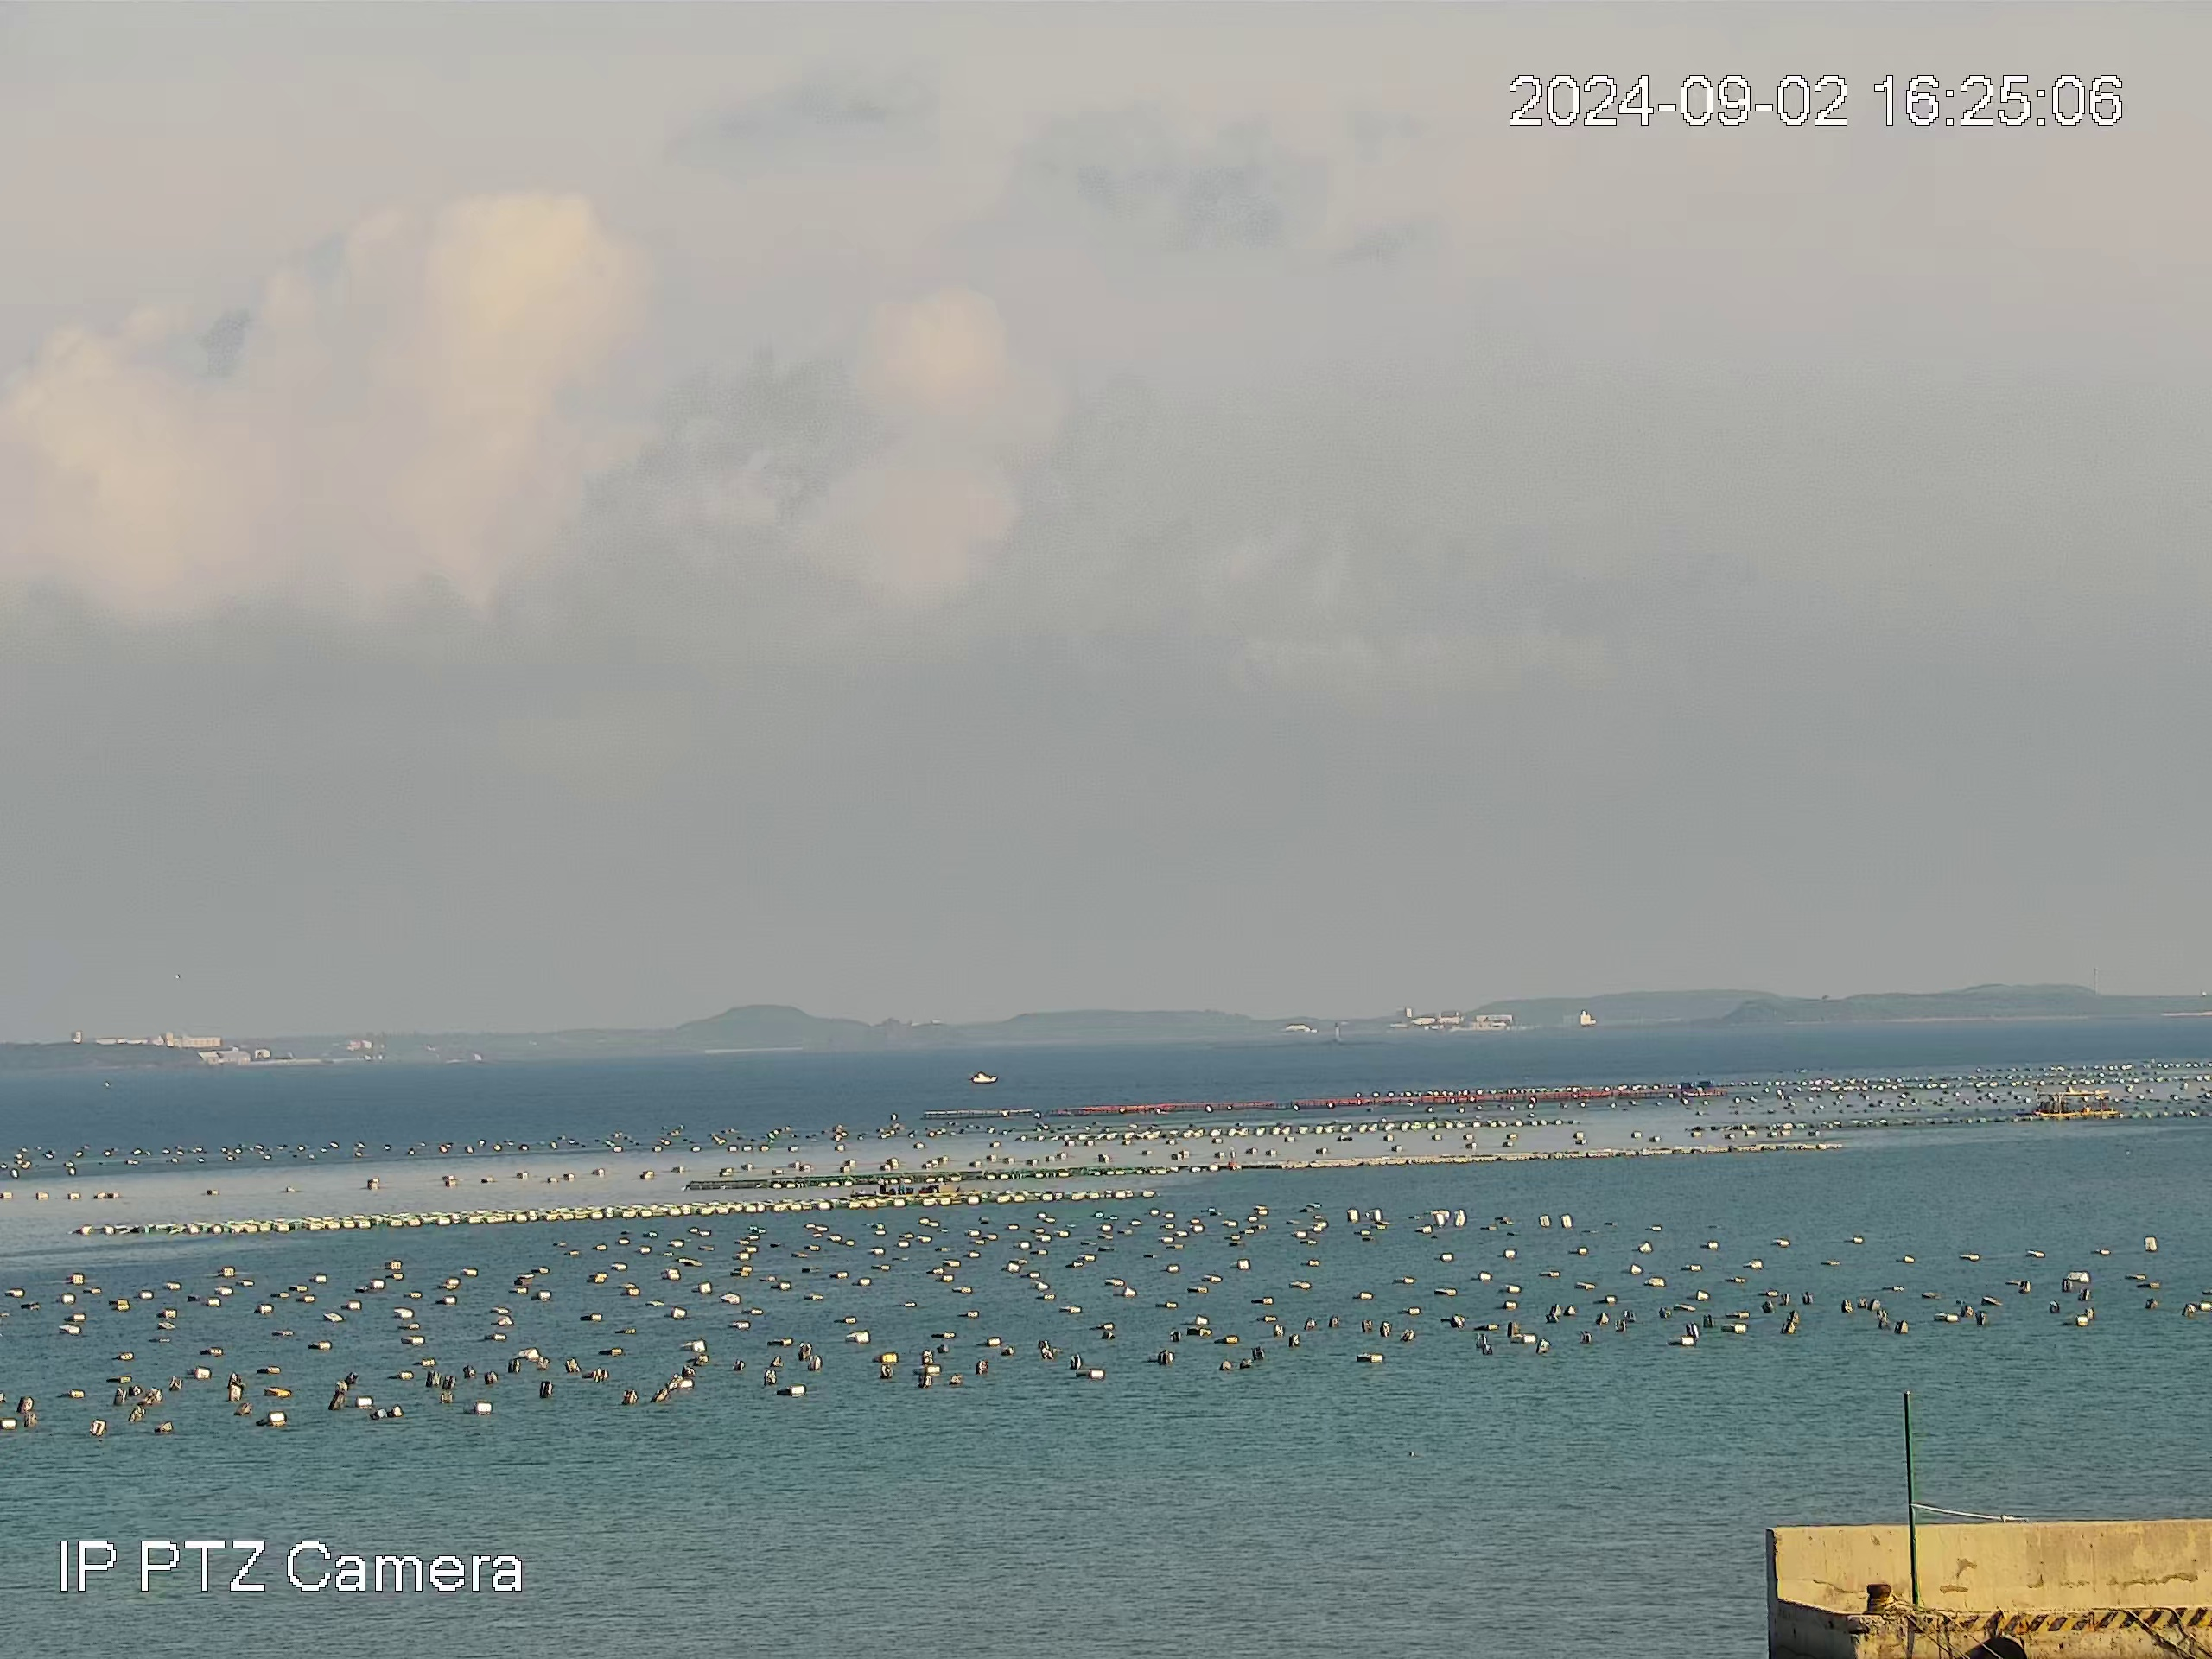boat: (2033, 1089, 2118, 1121), (874, 1175, 961, 1199), (970, 1070, 998, 1084)
